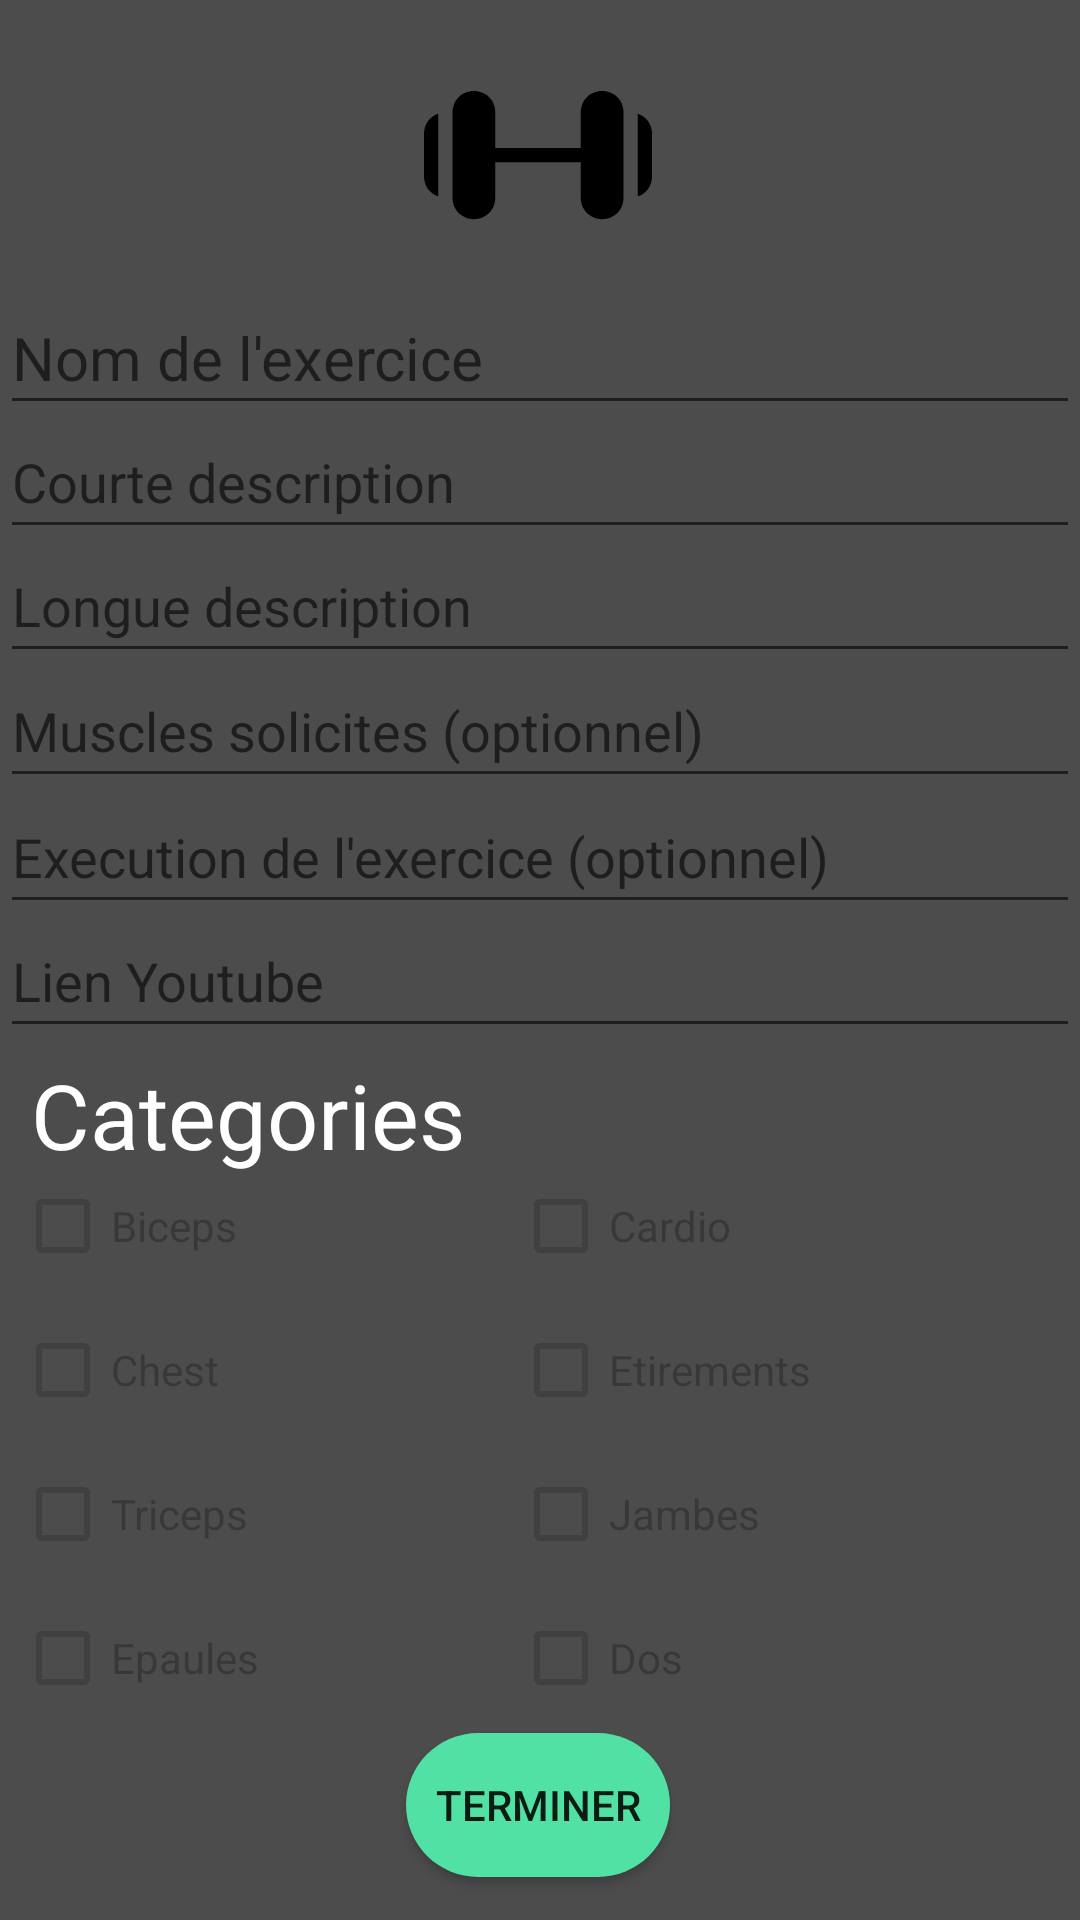

Icons on this 1080x1920 Android screen, each with the point to tap as (x,y):
dumbell fitness: (538,155)
